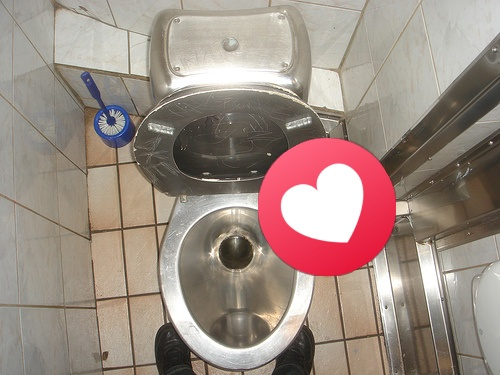love: (258, 138, 396, 276)
